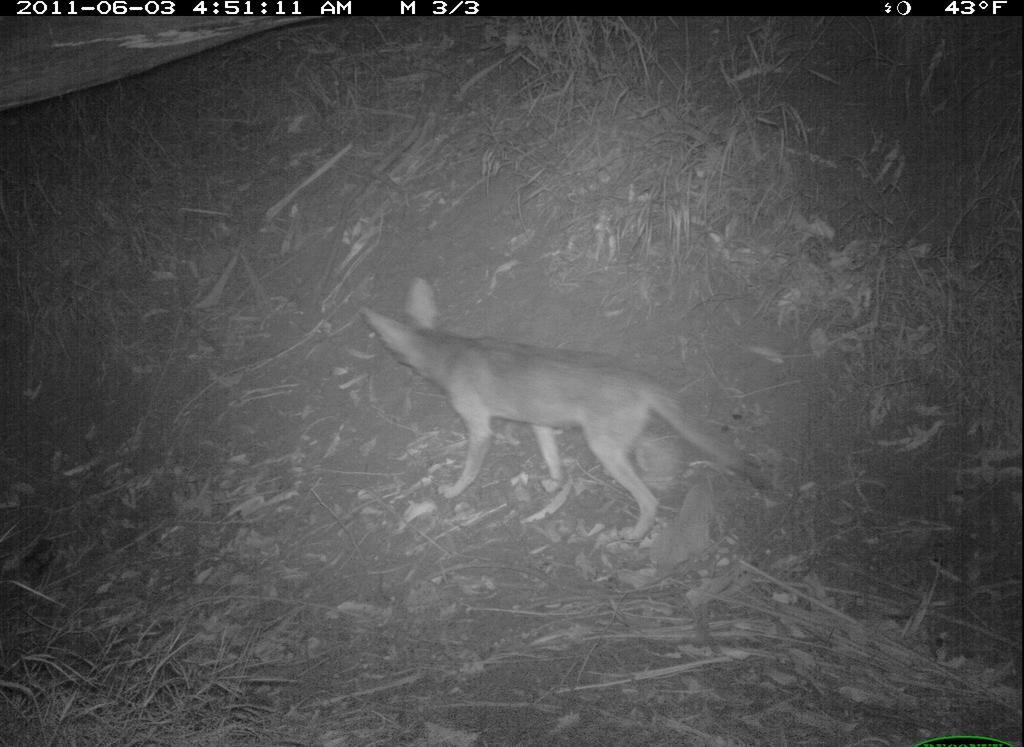coyote: (361, 273, 765, 555)
